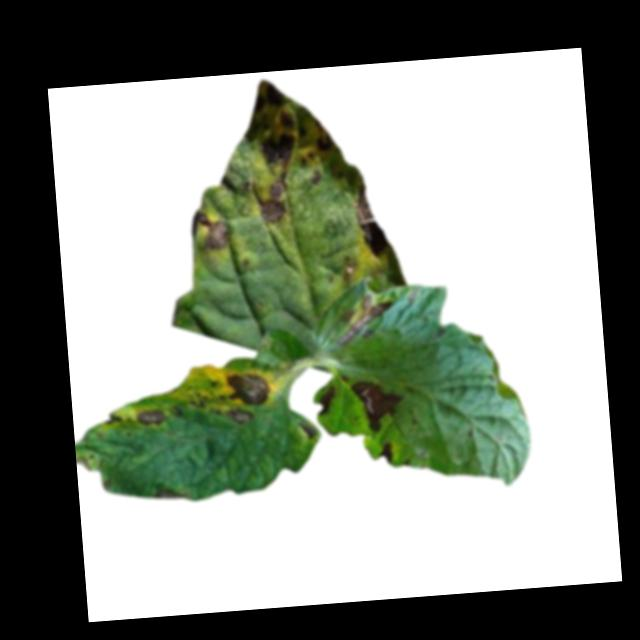Early_blight: (238, 75, 339, 155), (330, 294, 397, 351), (349, 376, 405, 433), (353, 179, 385, 256), (215, 369, 271, 409), (193, 210, 229, 256), (256, 178, 287, 226), (258, 134, 296, 169), (313, 383, 337, 417), (223, 408, 256, 429), (136, 407, 165, 429), (153, 488, 191, 503), (375, 440, 395, 464), (105, 412, 124, 428)
